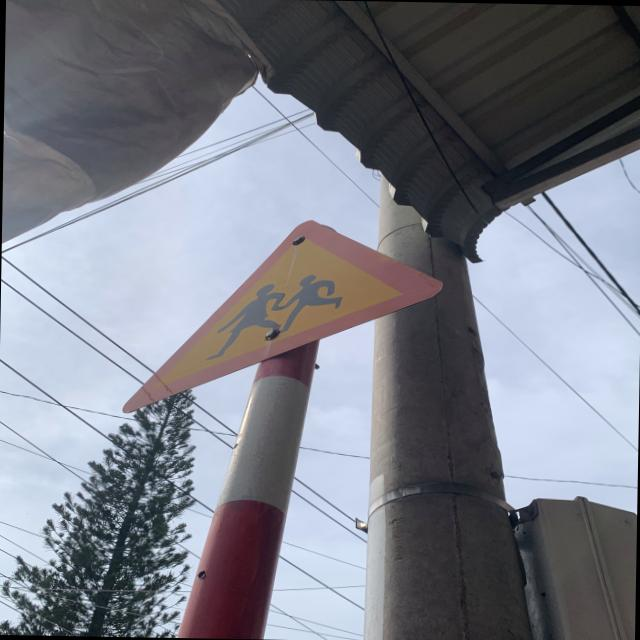Vong_Xuyen: (120, 216, 447, 417)
